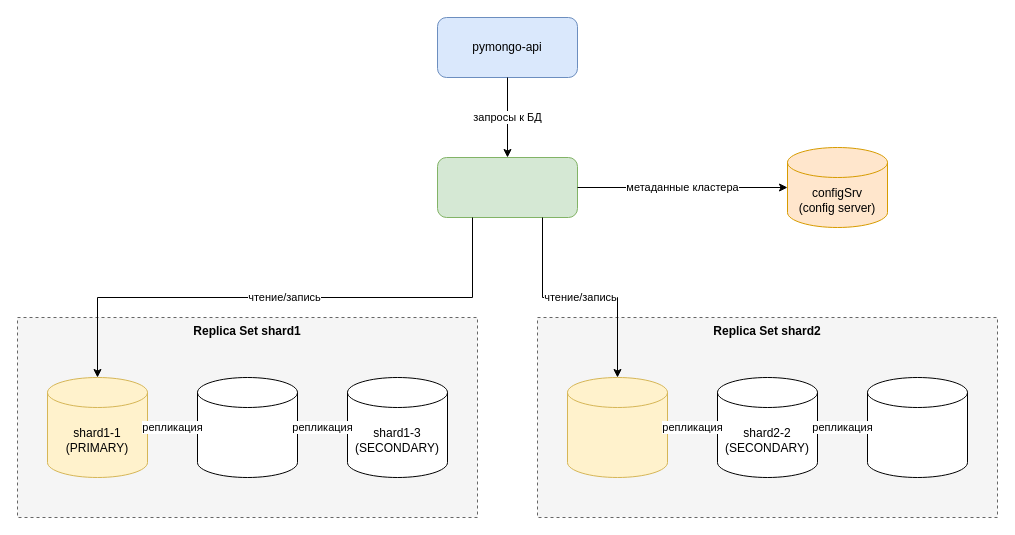
This 1015x535 diagram has some shape labels left out. The shapes that lost their labels are listed below. From the top down, each one's box as (x1, y1, x2, y2) in pixels, then its label:
(436, 156, 578, 218): mongos_router (MongoDB router)
(196, 376, 298, 478): shard1-2 (SECONDARY)
(566, 376, 668, 478): shard2-1 (PRIMARY)
(866, 376, 968, 478): shard2-3 (SECONDARY)
